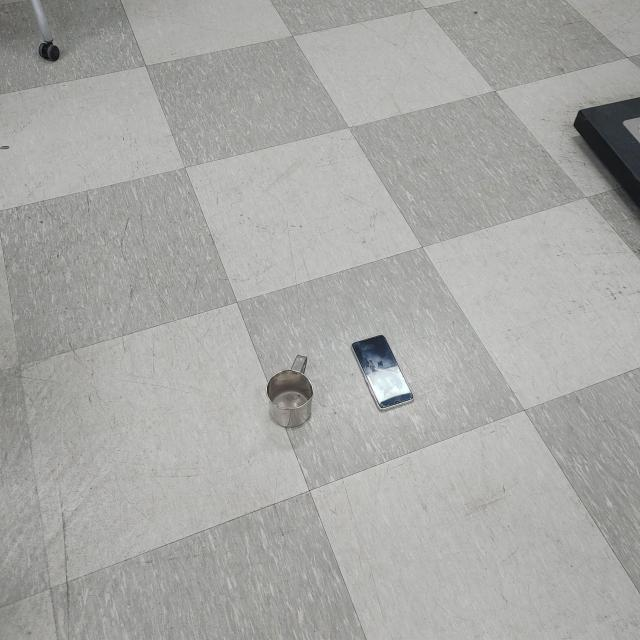cup: (266, 352, 314, 431)
phone: (350, 332, 414, 412)
